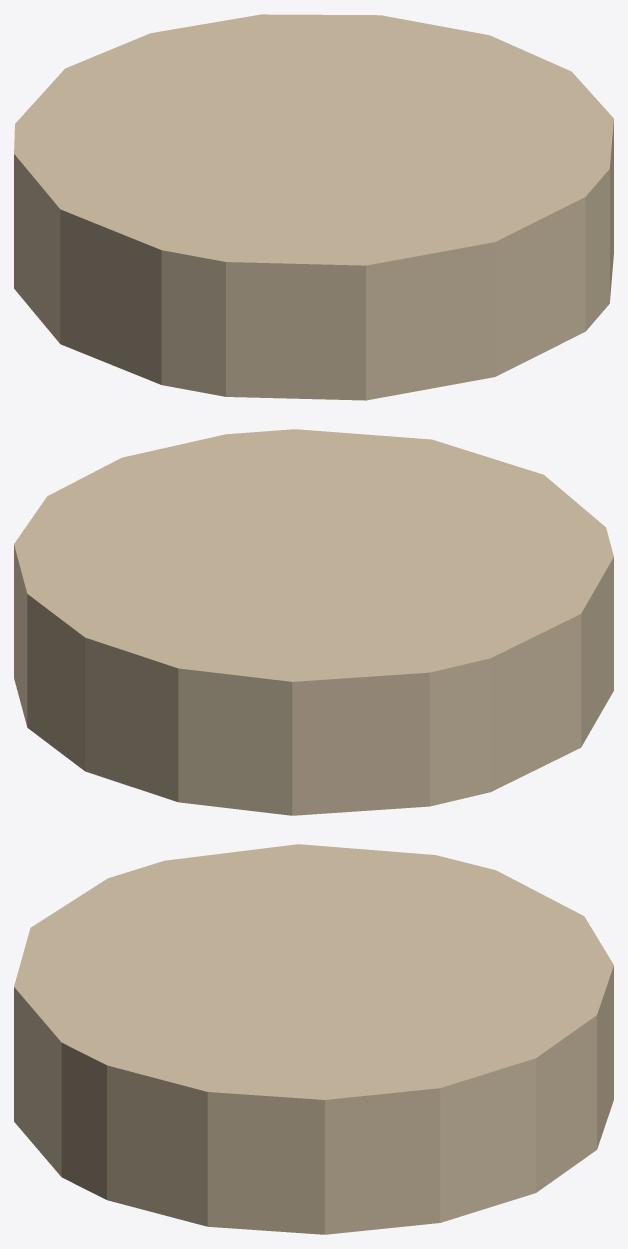
The model's file is 16_3-estimated-coarse.glb.
3 views of the same model, one above another, from view 1: azimuth 30°, elevation 25°; view 2: azimuth 150°, elevation 25°; view 3: azimuth 270°, elevation 25° (orthographic).
Bounding box in the file's own units: 48.84 × 12 × 48.4.
